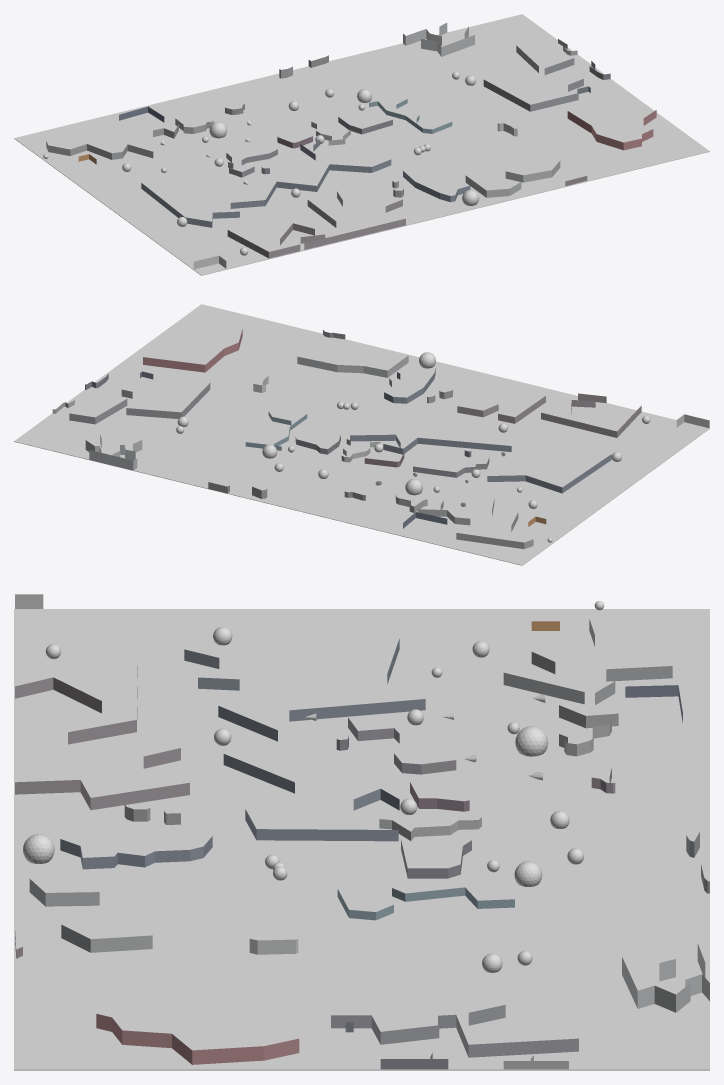
File: scene_c9a6653d-aeb3-4f97-879e-d9b81705384f.glb
The picture shows the model from 3 angles, top to bottom: view 1: azimuth 30°, elevation 25°; view 2: azimuth 150°, elevation 25°; view 3: azimuth 270°, elevation 25°; orthographic projection. The views are drawn at different scales.
Parts seen in each view (by area): view 1: Ground_Base, BLD-006, BLD-012, BLD-021, BLD-027, BLD-024, BLD-004, BLD-009, BLD-018, BLD-014, BLD-007; view 2: Ground_Base, BLD-012, BLD-006, BLD-021, BLD-024, BLD-027, BLD-004, BLD-009, BLD-014, BLD-018; view 3: Ground_Base, BLD-012, BLD-006, BLD-021, BLD-024, BLD-009, BLD-004, BLD-027, BLD-007, BLD-018, BLD-014, BLD-017 (+5 smaller).
Boxes of the visible parts, box(x1,y1,x2,y2) form: Ground_Base: box(14, 14, 709, 275); BLD-006: box(227, 191, 405, 258); BLD-012: box(141, 139, 391, 227); BLD-021: box(483, 45, 583, 111); BLD-027: box(403, 23, 474, 56); BLD-024: box(46, 124, 178, 159); BLD-004: box(465, 161, 560, 197); BLD-009: box(567, 110, 656, 150); BLD-018: box(369, 99, 452, 133); BLD-014: box(226, 149, 277, 177); BLD-007: box(403, 171, 470, 202); Ground_Base: box(14, 304, 709, 565); BLD-012: box(350, 434, 611, 493); BLD-006: box(457, 393, 641, 437); BLD-021: box(69, 383, 210, 424); BLD-024: box(418, 499, 533, 548); BLD-027: box(85, 434, 142, 470); BLD-004: box(297, 355, 408, 377); BLD-009: box(143, 329, 242, 372); BLD-014: box(413, 458, 489, 477); BLD-018: box(245, 411, 307, 450); Ground_Base: box(14, 609, 709, 1070); BLD-012: box(184, 638, 425, 841); BLD-006: box(15, 666, 189, 810); BLD-021: box(331, 1005, 578, 1057); BLD-024: box(503, 619, 672, 728); BLD-009: box(96, 1014, 299, 1064); BLD-004: box(29, 879, 152, 952); BLD-027: box(622, 943, 709, 1012); BLD-007: box(60, 836, 212, 869); BLD-018: box(337, 887, 514, 920); BLD-014: box(348, 718, 456, 774); BLD-017: box(379, 817, 481, 840).
Size of the model in its own units: 464 by 14.3 by 296.
